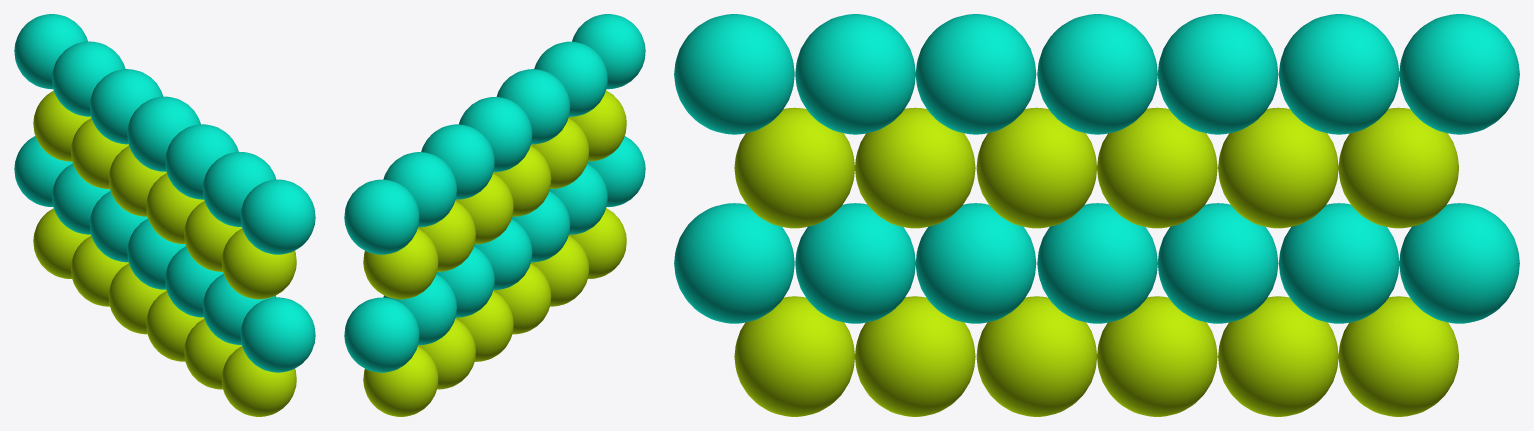
Rendered from 2-D[ABAB(square packaging)] .glb.
The picture shows the model from 3 angles, left to right: view 1: azimuth 30°, elevation 25°; view 2: azimuth 150°, elevation 25°; view 3: azimuth 270°, elevation 25°; orthographic projection. The views are drawn at different scales.
Parts seen in each view (by area): view 1: Sphere.006, Sphere.019, Sphere.012, Sphere.025, Sphere.003, Sphere.001, Sphere.005, Sphere.004, Sphere.002, Sphere, Sphere.018, Sphere.016 (+14 smaller); view 2: Sphere, Sphere.013, Sphere.007, Sphere.020, Sphere.004, Sphere.002, Sphere.006, Sphere.001, Sphere.003, Sphere.005, Sphere.014, Sphere.017 (+14 smaller); view 3: Sphere.002, Sphere.004, Sphere.005, Sphere, Sphere.006, Sphere.003, Sphere.001, Sphere.013, Sphere.019, Sphere.017, Sphere.015, Sphere.016 (+14 smaller).
Boxes of the visible parts, <box> form: Sphere.006: <box>240,179,315,254</box>; Sphere.019: <box>240,297,315,372</box>; Sphere.012: <box>221,228,296,299</box>; Sphere.025: <box>221,346,296,416</box>; Sphere.003: <box>127,96,200,171</box>; Sphere.001: <box>52,41,125,116</box>; Sphere.005: <box>202,152,276,226</box>; Sphere.004: <box>165,124,238,199</box>; Sphere.002: <box>89,69,163,144</box>; Sphere: <box>14,14,87,89</box>; Sphere.018: <box>202,274,275,344</box>; Sphere.016: <box>127,218,185,289</box>; Sphere: <box>344,179,419,254</box>; Sphere.013: <box>344,297,419,372</box>; Sphere.007: <box>363,228,438,299</box>; Sphere.020: <box>363,346,438,416</box>; Sphere.004: <box>496,69,570,144</box>; Sphere.002: <box>421,124,494,199</box>; Sphere.006: <box>572,14,645,89</box>; Sphere.001: <box>383,152,456,227</box>; Sphere.003: <box>459,97,532,171</box>; Sphere.005: <box>534,41,607,116</box>; Sphere.014: <box>383,274,456,345</box>; Sphere.017: <box>511,191,570,262</box>; Sphere.002: <box>1157,14,1278,134</box>; Sphere.004: <box>915,14,1036,134</box>; Sphere.005: <box>795,14,915,134</box>; Sphere: <box>1399,14,1519,134</box>; Sphere.006: <box>674,14,794,134</box>; Sphere.003: <box>1037,14,1157,134</box>; Sphere.001: <box>1278,14,1399,134</box>; Sphere.013: <box>1399,203,1519,323</box>; Sphere.019: <box>674,203,794,323</box>; Sphere.017: <box>915,203,1036,323</box>; Sphere.015: <box>1157,203,1278,323</box>; Sphere.016: <box>1037,203,1157,323</box>.
Size of the model in its own units: 2 by 7.16 by 14.01.
